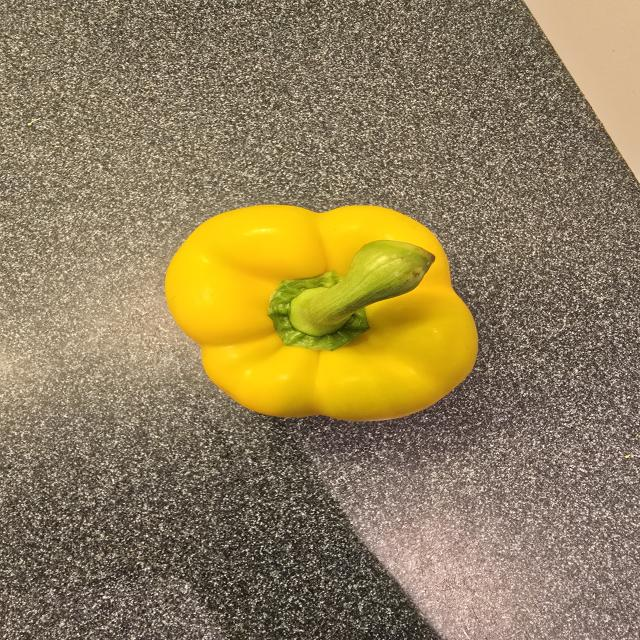Bell Pepper: (157, 196, 494, 432)
